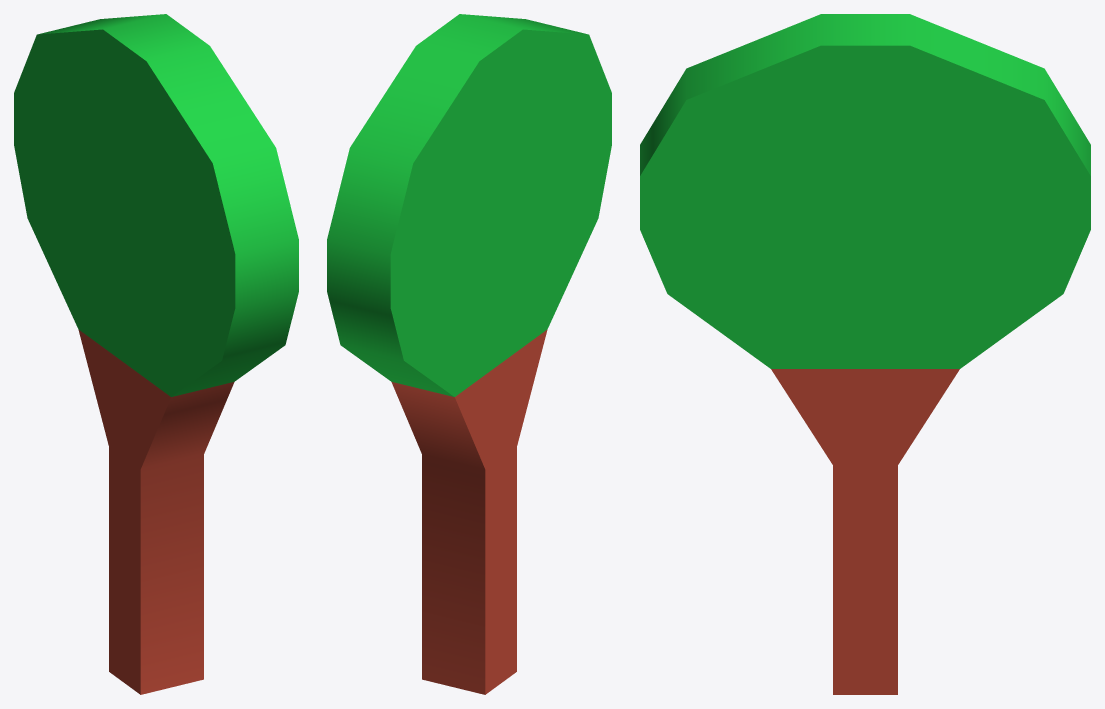
Rendered from SM_TreeScenery.fbx.
3 views of the same model, side by side, from view 1: azimuth 30°, elevation 25°; view 2: azimuth 150°, elevation 25°; view 3: azimuth 270°, elevation 25° (orthographic).
Visible parts, largest first — view 1: TreeScenery; view 2: TreeScenery; view 3: TreeScenery.
Part boxes in pixels (bbox=[...]): TreeScenery: bbox=[14, 14, 298, 694]; TreeScenery: bbox=[327, 14, 611, 694]; TreeScenery: bbox=[640, 14, 1090, 694].
Bounding box in the file's own units: 20 × 192 × 121.
